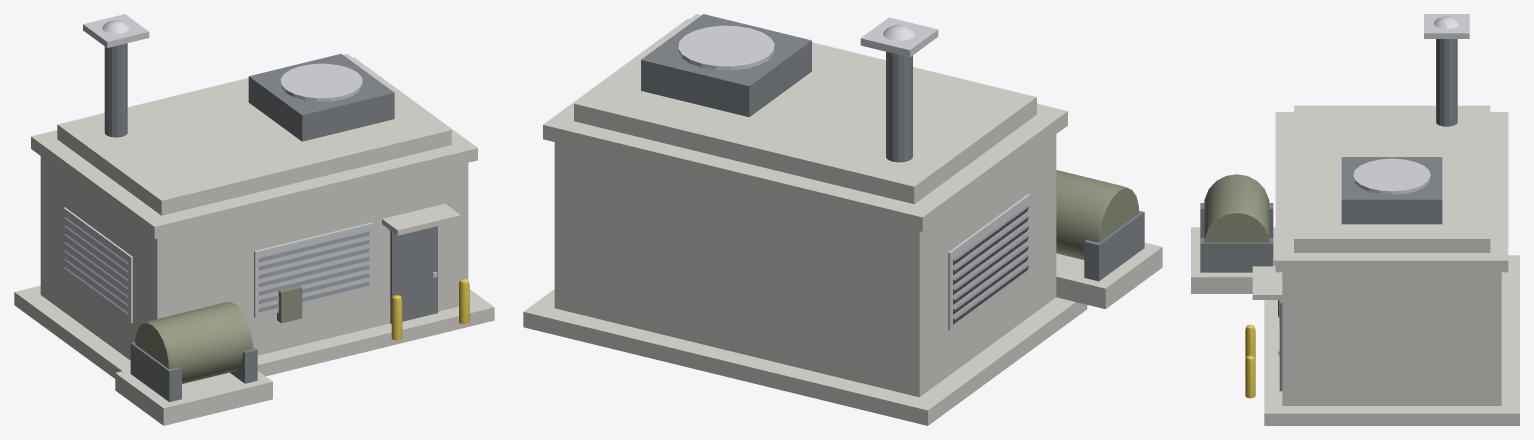
The model's file is cold-war-missile-silo-and-command-bunker-site-generato-233c10a8__15675.glb.
The picture shows the model from 3 angles, left to right: view 1: azimuth 30°, elevation 25°; view 2: azimuth 150°, elevation 25°; view 3: azimuth 270°, elevation 25°; orthographic projection. The views are drawn at different scales.
Parts seen in each view (by area): view 1: site-generator-house; view 2: site-generator-house; view 3: site-generator-house.
Part boxes in pixels (x1,y1,x2,y2): site-generator-house: (14,14,494,425); site-generator-house: (523,14,1162,425); site-generator-house: (1191,14,1519,425).
Size of the model in its own units: 8.8 by 6.74 by 7.2.
